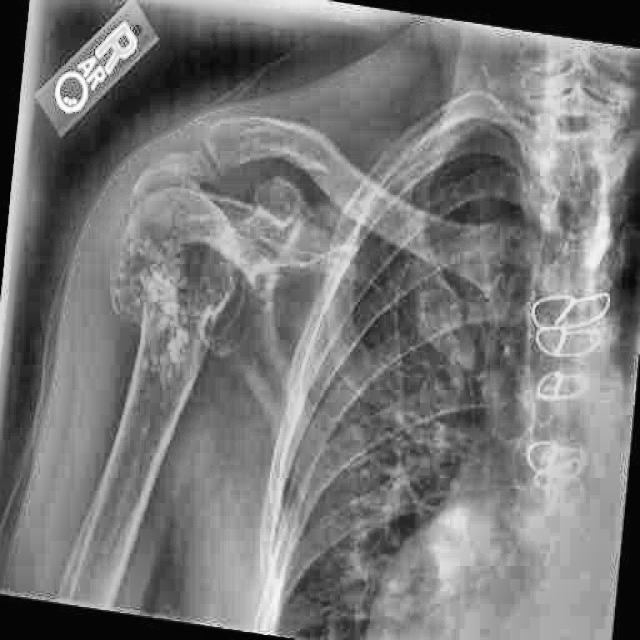shoulder fracture: (94, 287, 176, 381)
